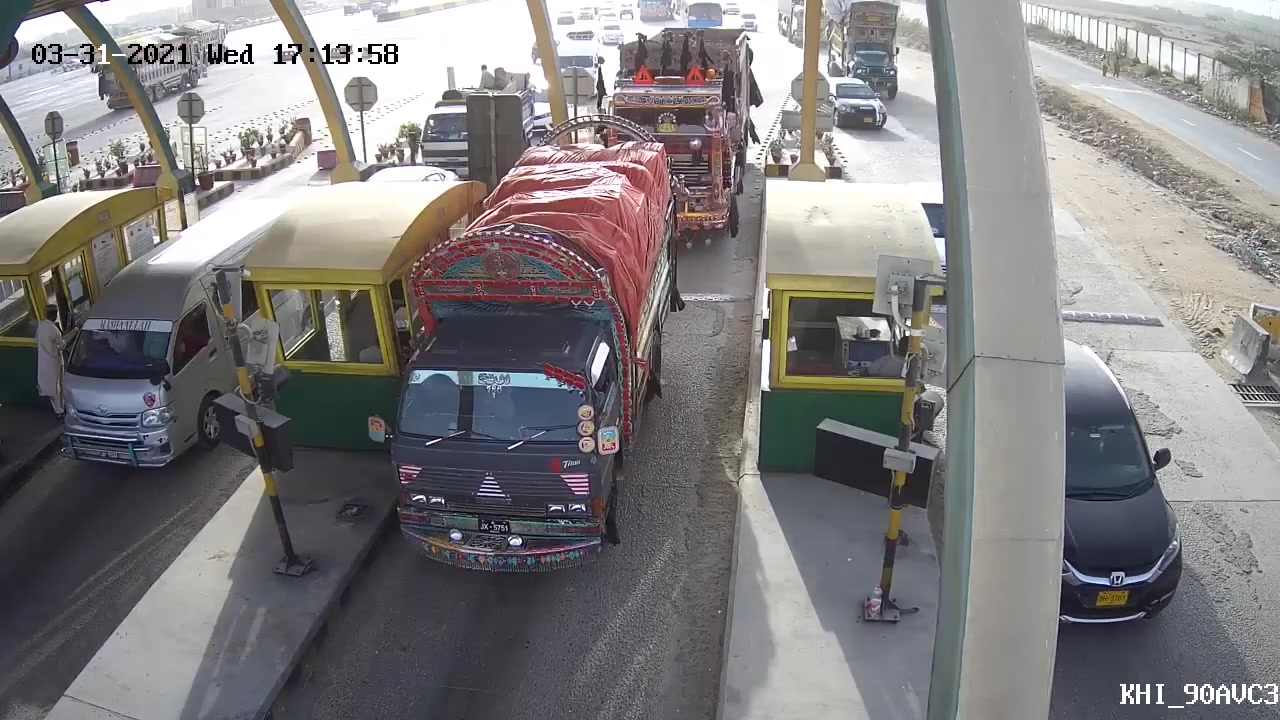F3: (380, 118, 688, 586)
